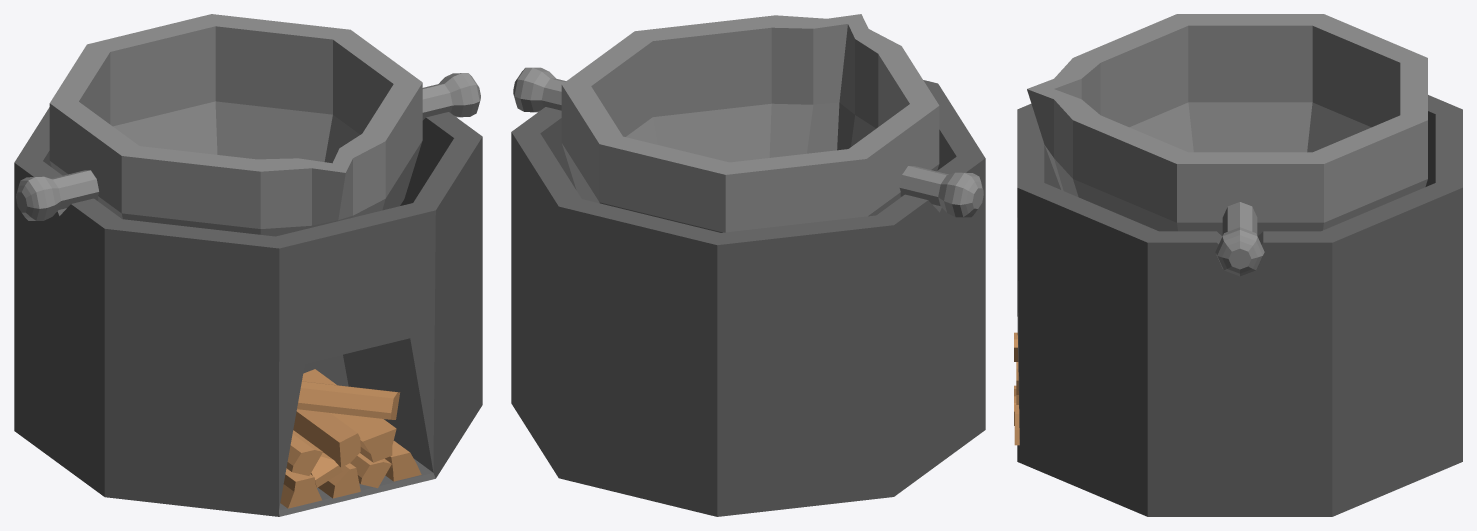
Rendered from roaster.glb.
The picture shows the model from 3 angles, left to right: view 1: azimuth 30°, elevation 25°; view 2: azimuth 150°, elevation 25°; view 3: azimuth 270°, elevation 25°; orthographic projection. The views are drawn at different scales.
Visible parts, largest first — view 1: roaster; view 2: roaster; view 3: roaster.
Boxes of the visible parts, x1=… form: roaster: x1=14, y1=14, x2=482, y2=516; roaster: x1=511, y1=14, x2=985, y2=516; roaster: x1=1014, y1=14, x2=1462, y2=516.
Bounding box in the file's own units: 3.38 × 2.3 × 2.83.
